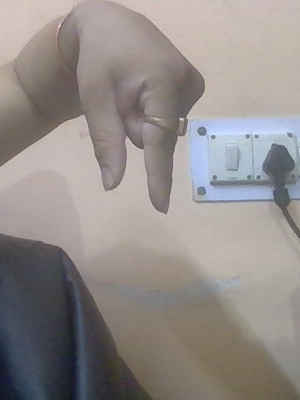Q: (53, 1, 206, 219)
